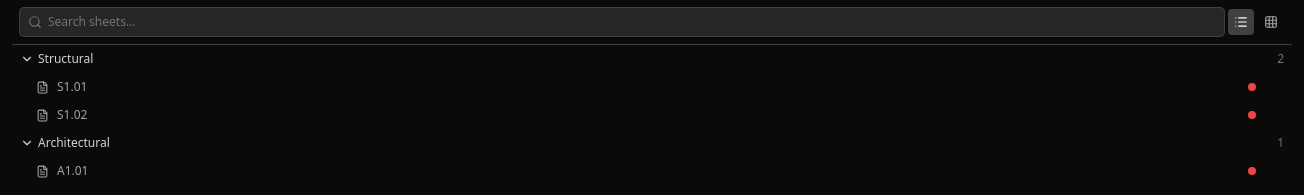
it: SheetTree › search filters sheets by name
In the field with test id "sheet-search": coordinates (622, 22) [20,8,1224,36], type "S1"
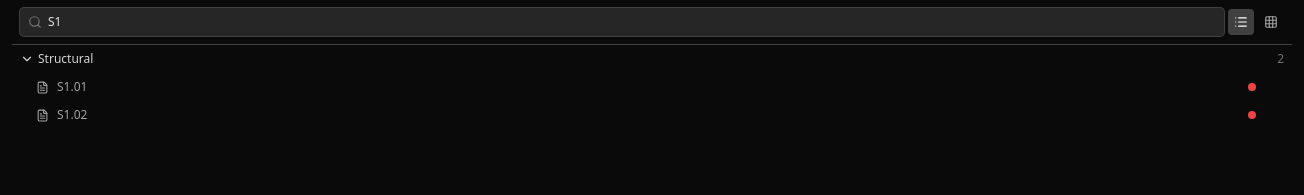
Expected: the text "S1.01" is shown, [57,78,87,95]
Expected: the text "A1.01" is gone
